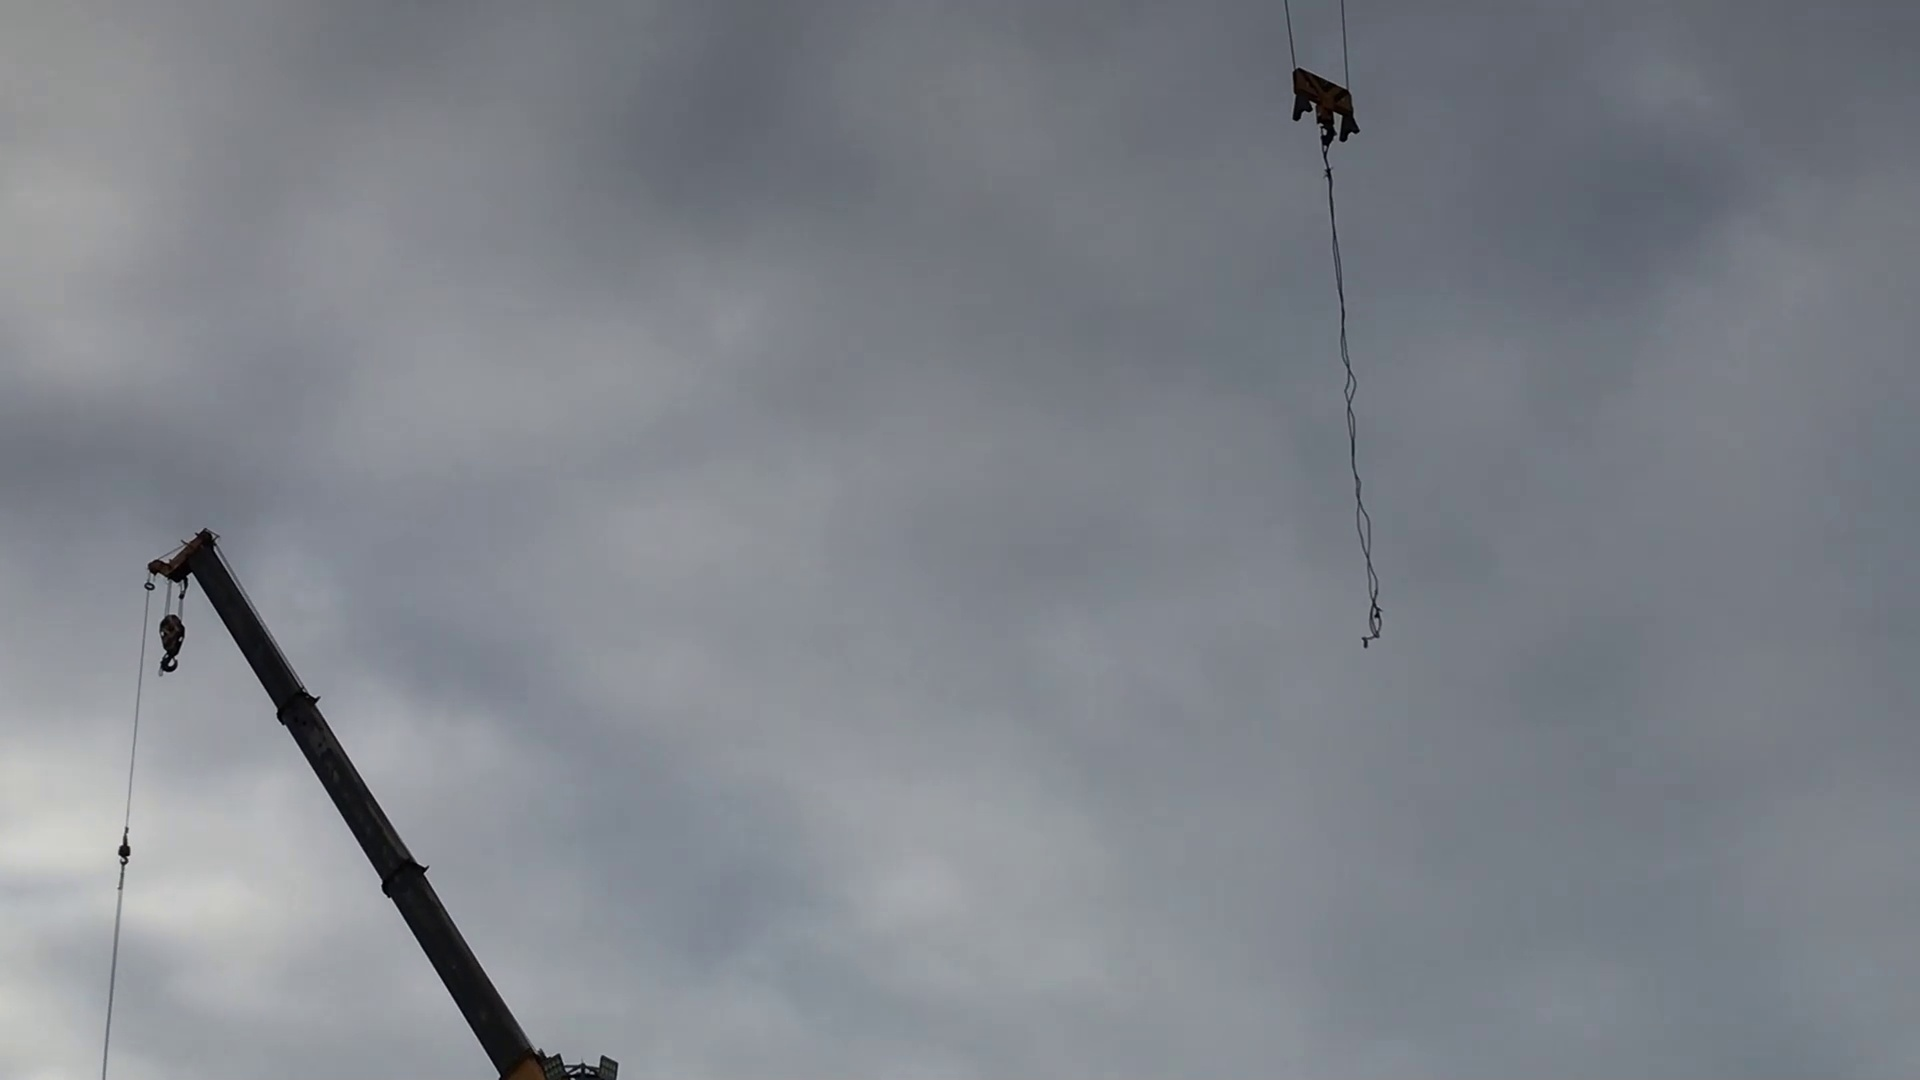hook: (1284, 59, 1369, 154), (137, 593, 195, 698)
